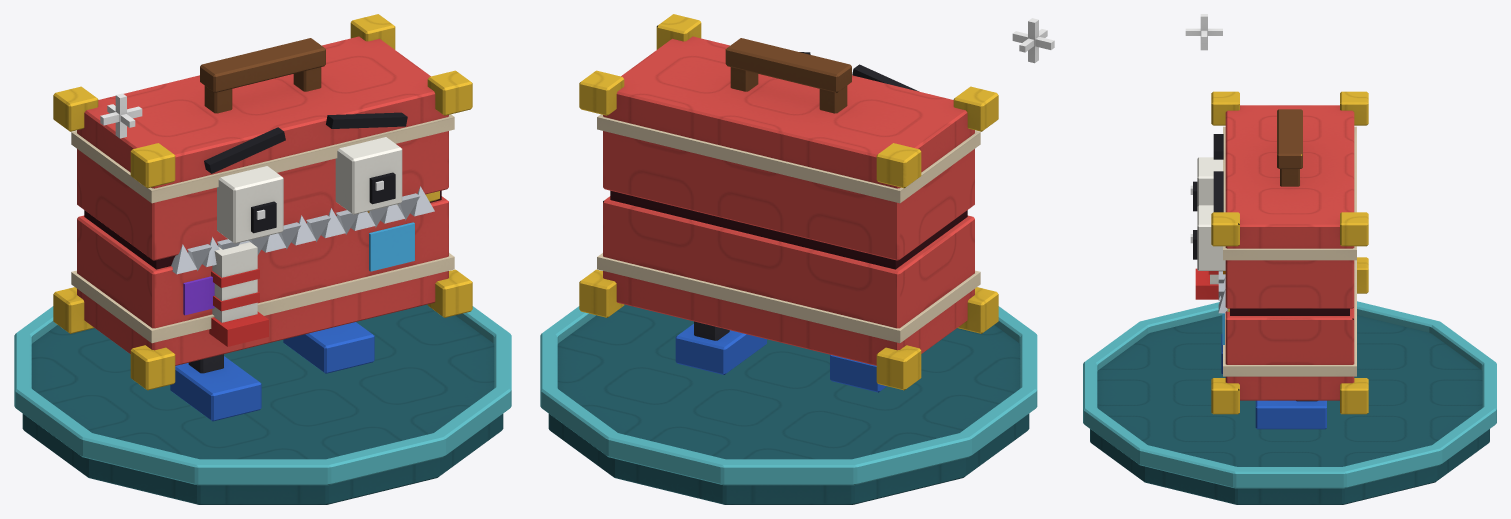
The model's file is WalkingSuitcase.fbx.
3 views of the same model, side by side, from view 1: azimuth 30°, elevation 25°; view 2: azimuth 150°, elevation 25°; view 3: azimuth 270°, elevation 25° (orthographic). The views are drawn at different scales.
Visible parts, largest first — view 1: Art_WalkingSuitcase_Stand, Art_WalkingSuitcase_Lid, Art_WalkingSuitcase_Body, Art_WalkingSuitcase_EyeR, Art_WalkingSuitcase_EyeL, Art_WalkingSuitcase_LegL, Art_WalkingSuitcase_LegR; view 2: Art_WalkingSuitcase_Stand, Art_WalkingSuitcase_Lid, Art_WalkingSuitcase_Body, Art_WalkingSuitcase_LegR, Art_WalkingSuitcase_LegL; view 3: Art_WalkingSuitcase_Stand, Art_WalkingSuitcase_Lid, Art_WalkingSuitcase_Body, Art_WalkingSuitcase_LegR, Art_WalkingSuitcase_EyeR, Art_WalkingSuitcase_EyeL.
Part boxes in pixels (bbox=[...]): Art_WalkingSuitcase_Stand: bbox=[14, 93, 511, 504]; Art_WalkingSuitcase_Lid: bbox=[53, 14, 472, 270]; Art_WalkingSuitcase_Body: bbox=[53, 186, 472, 390]; Art_WalkingSuitcase_EyeR: bbox=[335, 137, 402, 214]; Art_WalkingSuitcase_EyeL: bbox=[217, 166, 283, 243]; Art_WalkingSuitcase_LegL: bbox=[170, 354, 261, 421]; Art_WalkingSuitcase_LegR: bbox=[283, 322, 374, 373]; Art_WalkingSuitcase_Stand: bbox=[540, 18, 1054, 504]; Art_WalkingSuitcase_Lid: bbox=[579, 14, 998, 260]; Art_WalkingSuitcase_Body: bbox=[579, 190, 998, 390]; Art_WalkingSuitcase_LegR: bbox=[675, 321, 766, 374]; Art_WalkingSuitcase_LegL: bbox=[830, 354, 886, 392]; Art_WalkingSuitcase_Stand: bbox=[1083, 14, 1496, 504]; Art_WalkingSuitcase_Lid: bbox=[1211, 91, 1368, 308]; Art_WalkingSuitcase_Body: bbox=[1195, 257, 1368, 414]; Art_WalkingSuitcase_LegR: bbox=[1255, 400, 1326, 429]; Art_WalkingSuitcase_EyeR: bbox=[1190, 205, 1225, 270]; Art_WalkingSuitcase_EyeL: bbox=[1190, 157, 1222, 211].
Size of the model in its own units: 2.9 by 2.53 by 2.9.
